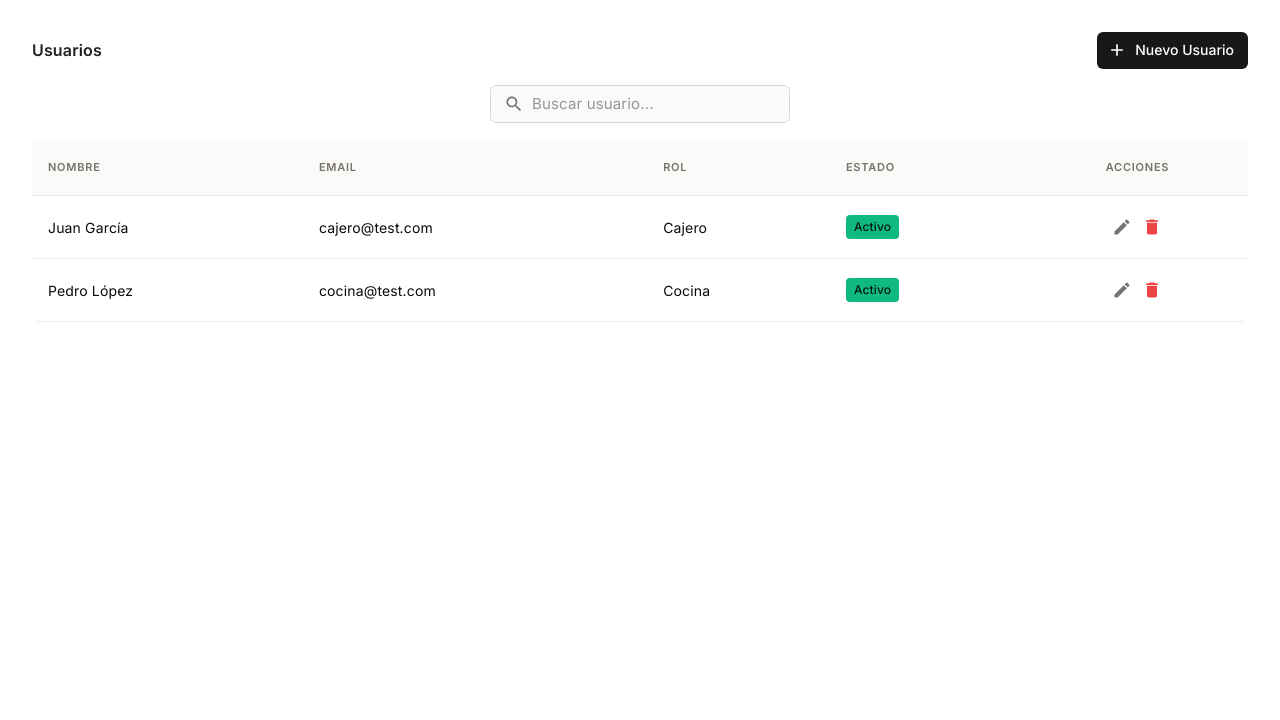
Test: UserList › opens edit dialog on edit icon click
Expected: the text "Juan García" is shown, [32,196,303,259]
Click the button named "editar juan garcía". click: (1122, 227)
box: [1108,212,1138,242]
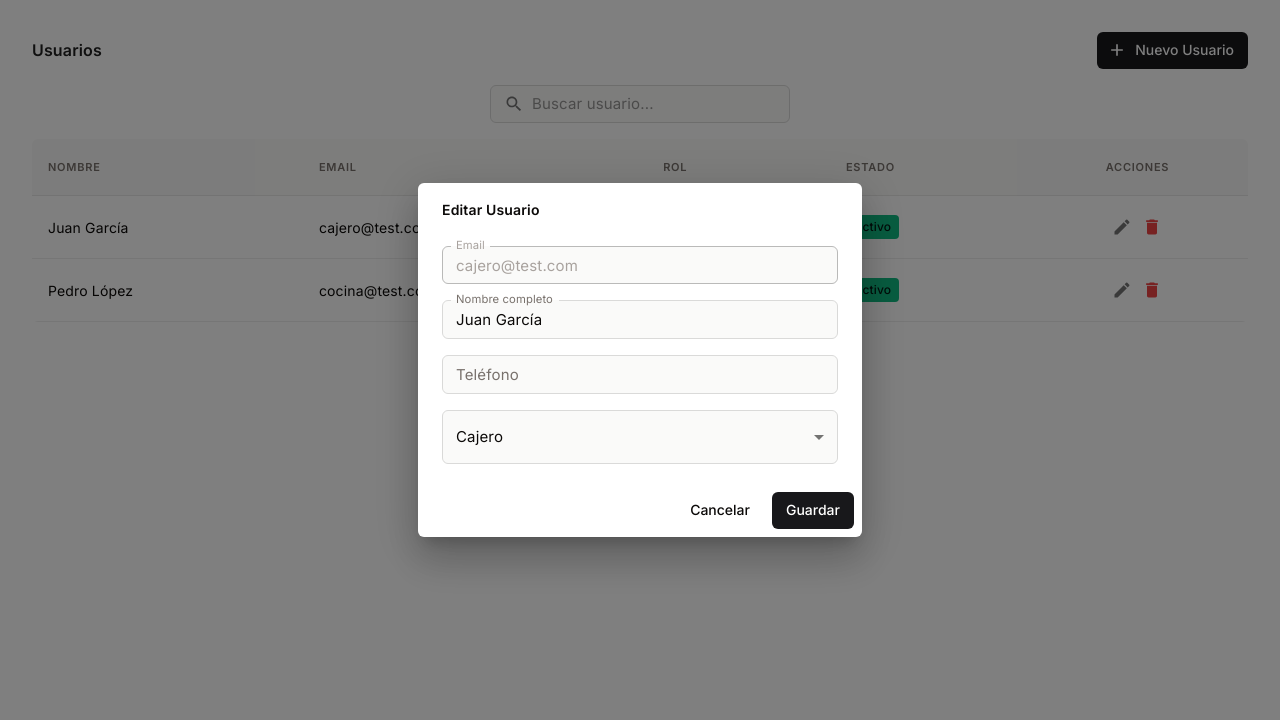
Expected: the heading "Editar Usuario" is shown, [442,201,540,218]
Expected: the field named "nombre usuario" holds "Juan García", [442,300,838,339]
